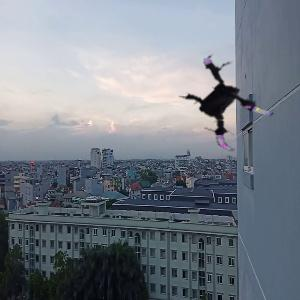drone: (169, 46, 278, 155)
